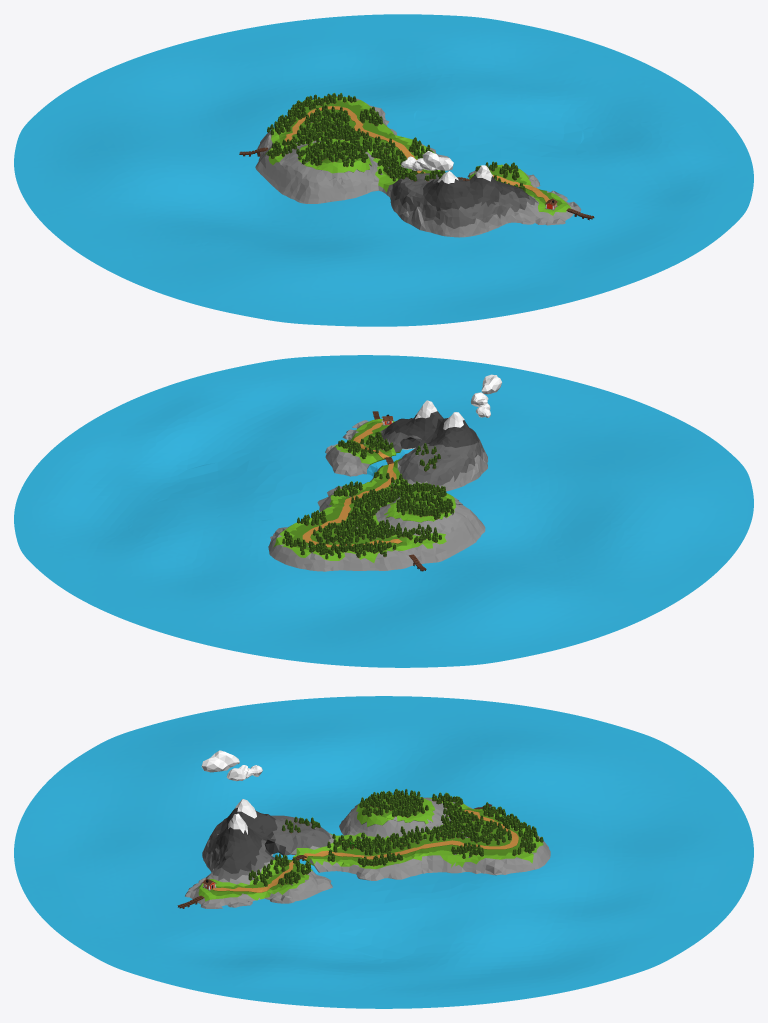
The model's file is saari009_geo3_bake2.glb.
3 renders of one model, top to bottom at view 1: azimuth 30°, elevation 25°; view 2: azimuth 150°, elevation 25°; view 3: azimuth 270°, elevation 25°, orthographic. The views are drawn at different scales.
Visible parts, largest first — view 1: Water001, Terrain001; view 2: Water001, Terrain001; view 3: Water001, Terrain001, Cloud003.
Part boxes in pixels (box(x1,y1,x2,y2)): Water001: box(14, 14, 753, 326); Terrain001: box(255, 96, 581, 237); Water001: box(14, 355, 753, 667); Terrain001: box(268, 400, 487, 571); Water001: box(14, 696, 753, 1008); Terrain001: box(185, 795, 550, 908); Cloud003: box(201, 750, 239, 772).
Bounding box in the file's own units: 27.46 × 3.96 × 27.46.
Materials: 7 (4 with a texture image).
